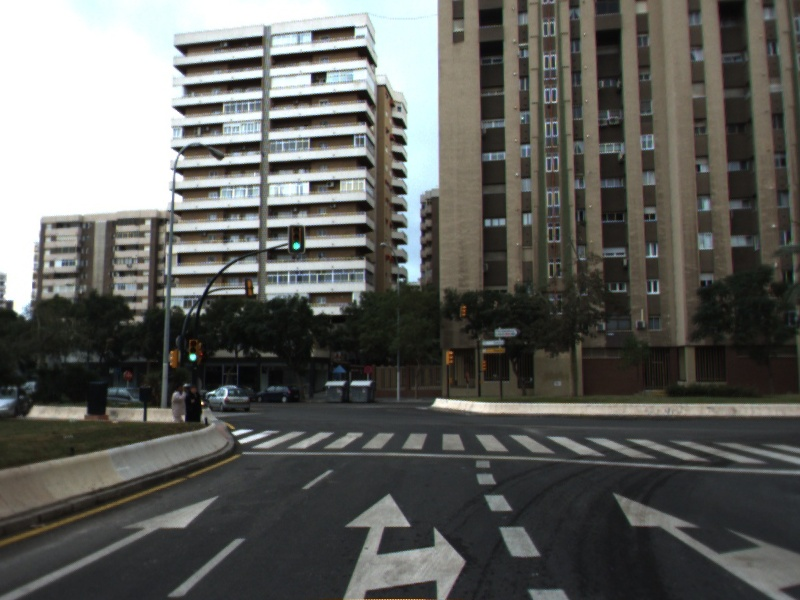STRAIGHT: (1, 491, 223, 600)
STRAIGHT_RIGHT: (608, 489, 800, 600), (339, 488, 469, 600)
